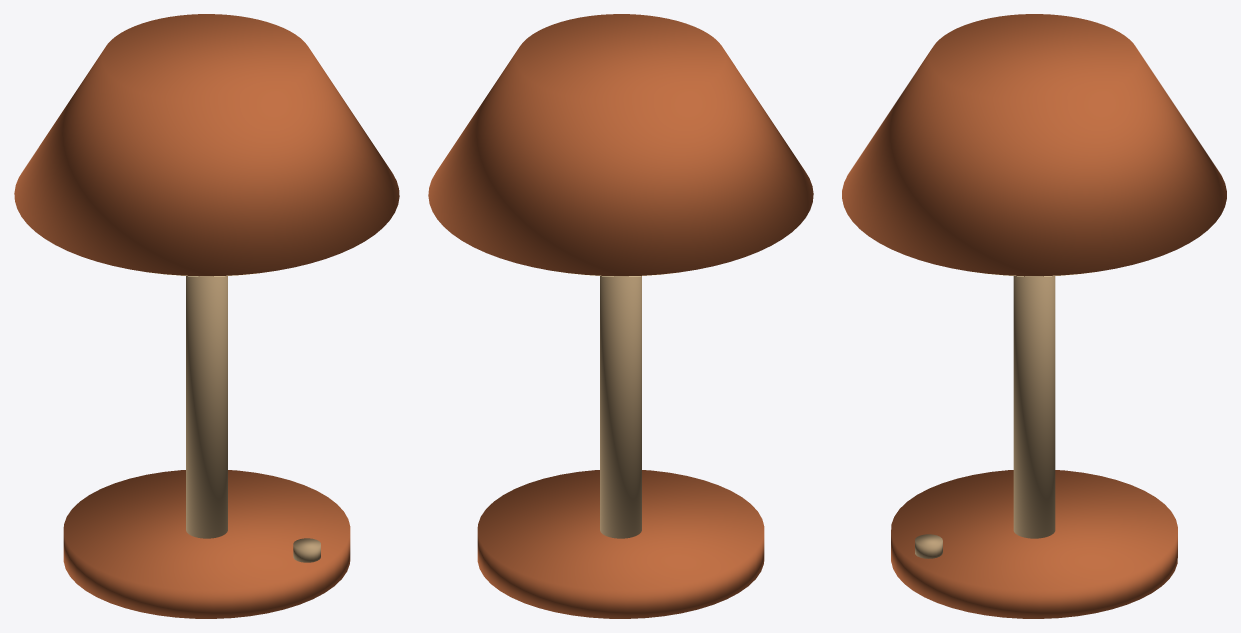
Rendered from decor_task_lamp.glb.
3 views of the same model, side by side, from view 1: azimuth 30°, elevation 25°; view 2: azimuth 150°, elevation 25°; view 3: azimuth 270°, elevation 25° (orthographic).
Visible parts, largest first — view 1: decor_task_lamp; view 2: decor_task_lamp; view 3: decor_task_lamp.
Part boxes in pixels (<box>): decor_task_lamp: <box>14,14,399,618</box>; decor_task_lamp: <box>428,14,813,618</box>; decor_task_lamp: <box>842,14,1226,618</box>.
Size of the model in its own units: 0.1099 by 0.1575 by 0.1099.
